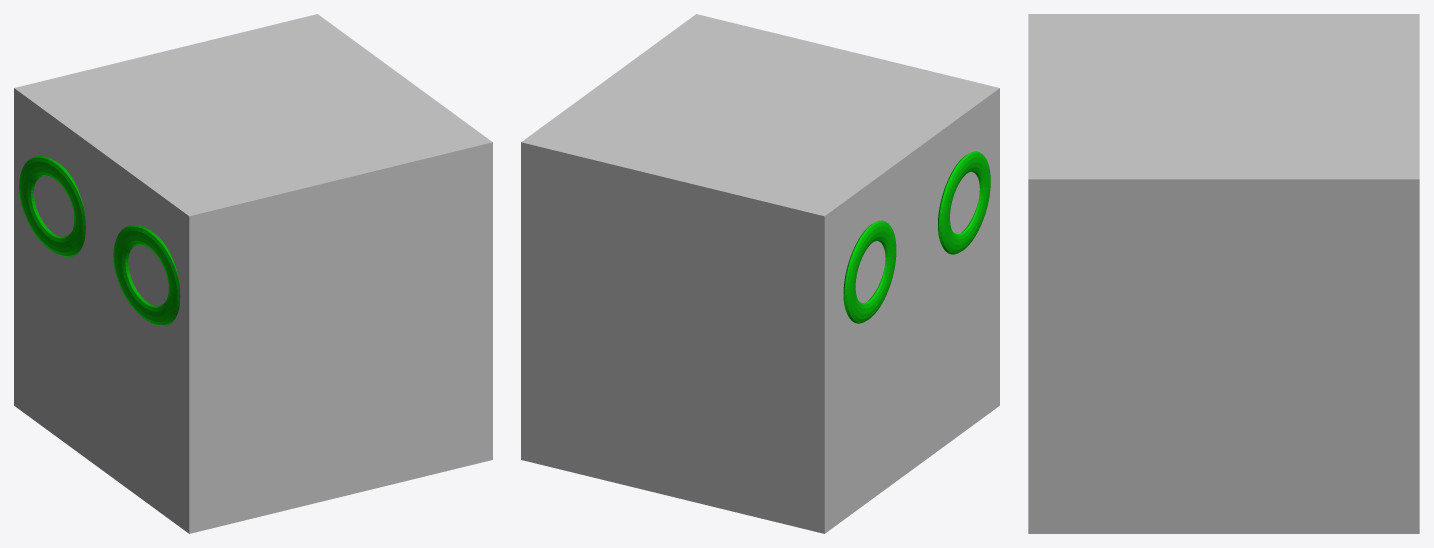
File: Player.obj
The picture shows the model from 3 angles, left to right: view 1: azimuth 30°, elevation 25°; view 2: azimuth 150°, elevation 25°; view 3: azimuth 270°, elevation 25°; orthographic projection. The views are drawn at different scales.
Visible parts, largest first — view 1: Cube, トーラス.001, トーラス; view 2: Cube, トーラス, トーラス.001; view 3: Cube.
Boxes of the visible parts, bbox=[...] form: Cube: bbox=[14, 14, 492, 533]; トーラス.001: bbox=[113, 224, 180, 325]; トーラス: bbox=[19, 155, 85, 256]; Cube: bbox=[521, 14, 999, 533]; トーラス: bbox=[843, 220, 896, 323]; トーラス.001: bbox=[938, 151, 990, 254]; Cube: bbox=[1028, 14, 1419, 533].
Size of the model in its own units: 2.06 by 2 by 2.
